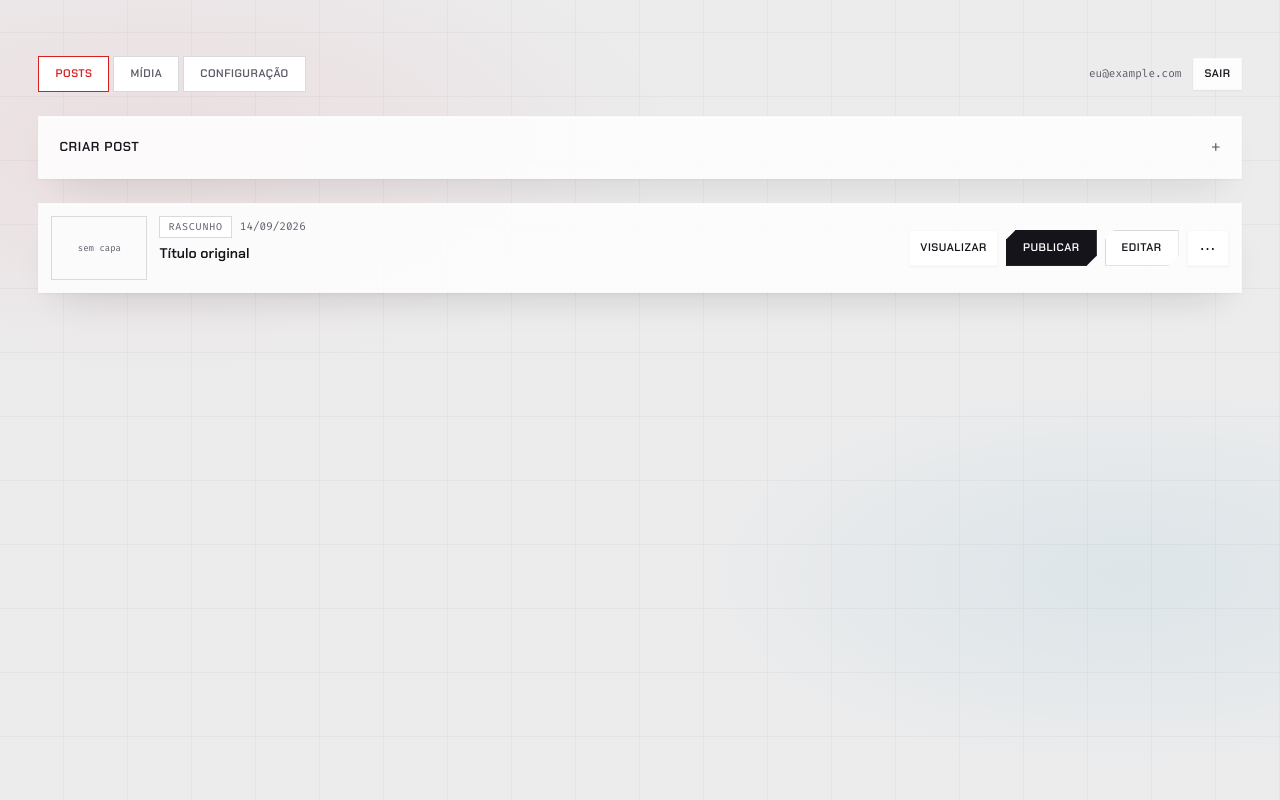
Test case: texto ainda não salvo › a lista não mostra o texto digitado antes de salvar
Click the button "editar" at (1142, 248), box [1105,230,1179,266]
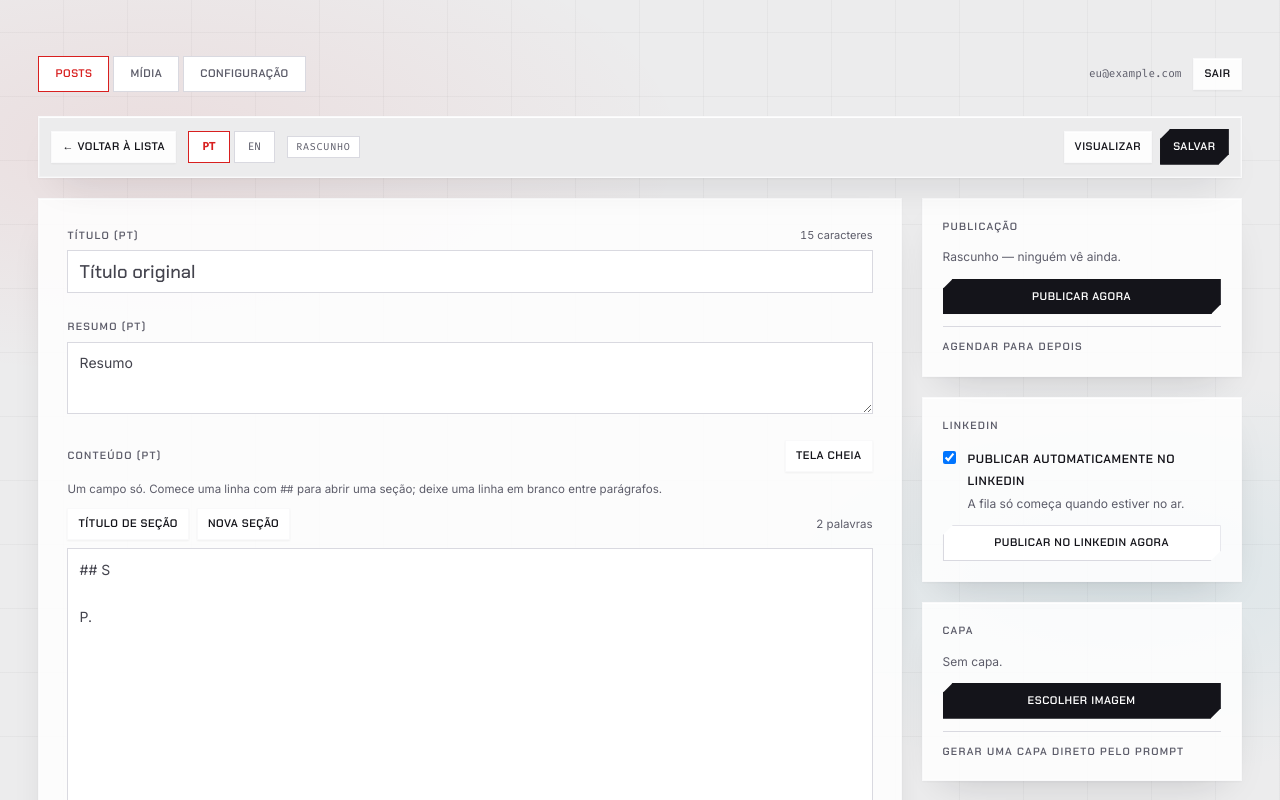
Type " extra" into the text box labelled "Título (pt)" at (470, 272), box [67,250,873,293]
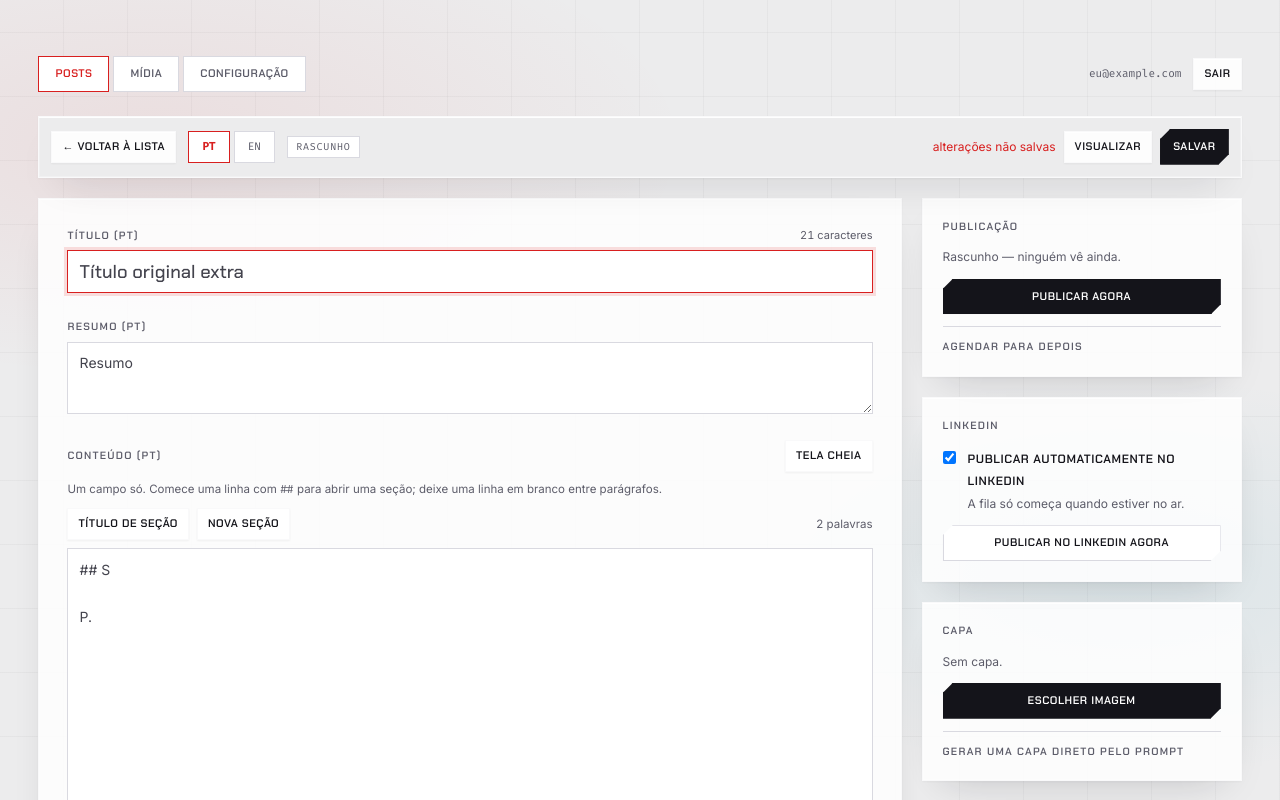
Click the button "← voltar à lista" at (114, 147), box [51,131,176,163]
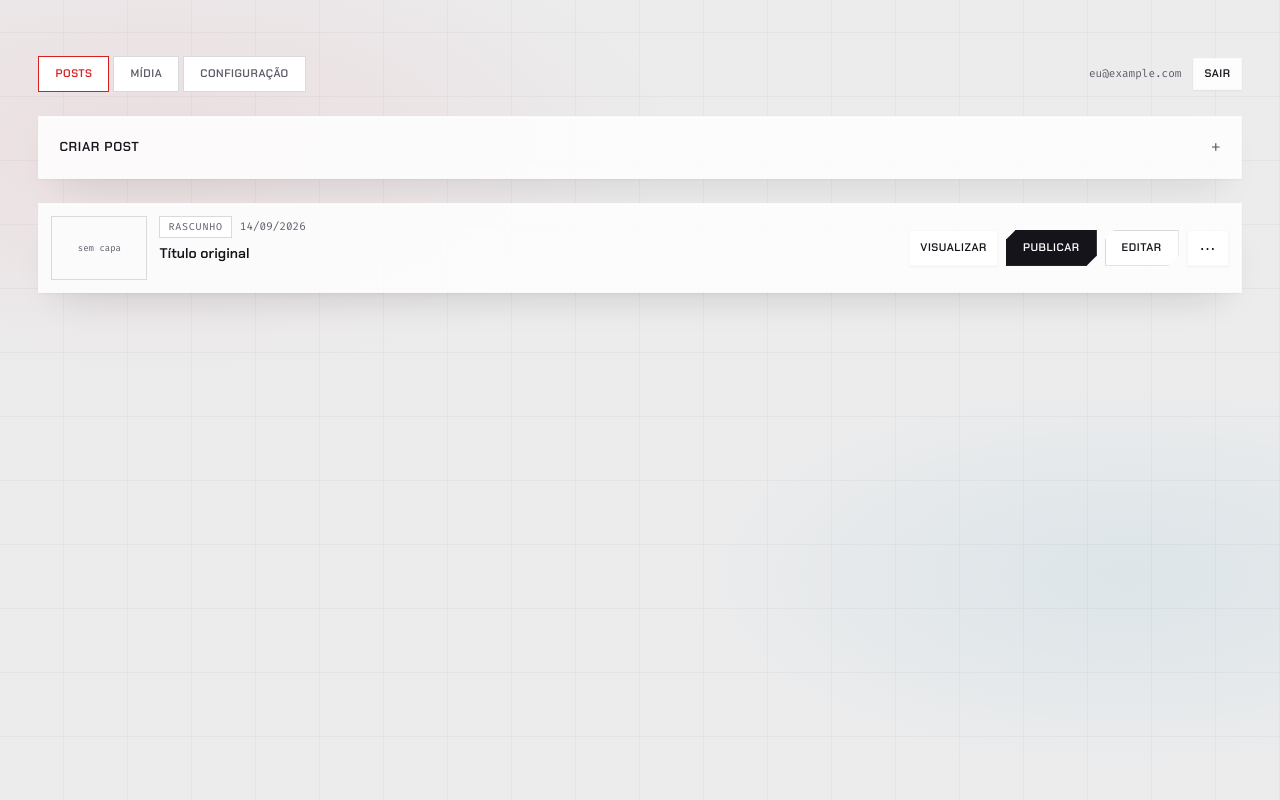
Expected: the text "Título original extra" is not shown
Expected: the text "Título original" is shown, [159,244,250,262]
